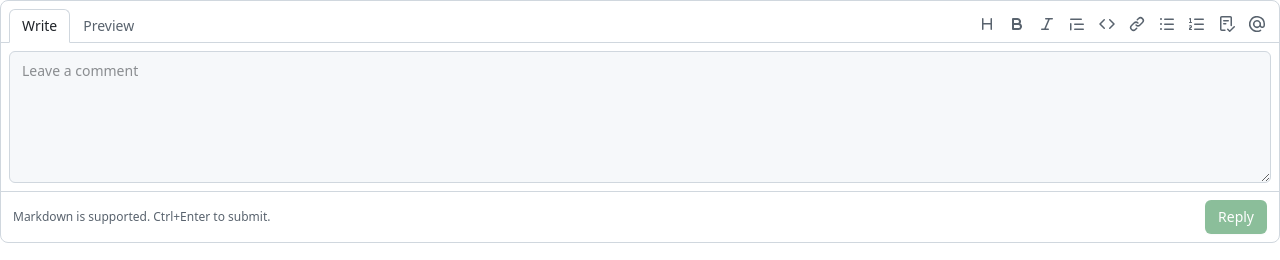
it: CommentEditor › formatting tools › inserts markers with no closing part
In the text box: (640, 117) x1=9 y1=51 x2=1271 y2=183, type "hi "
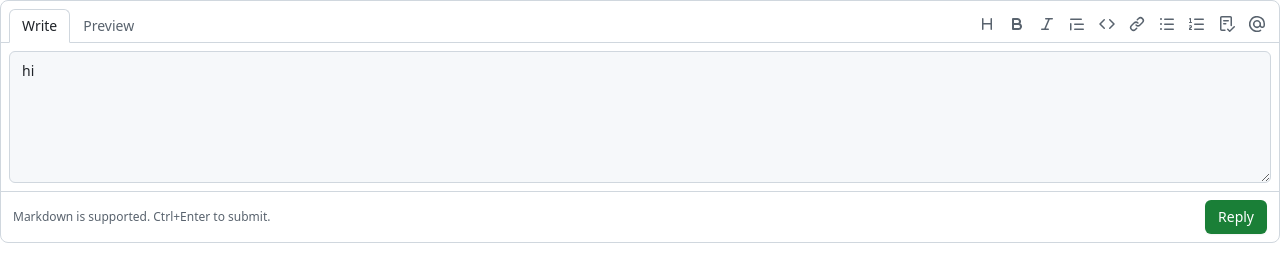
Click the button named "Mention a user": (1257, 24) x1=1243 y1=10 x2=1271 y2=38
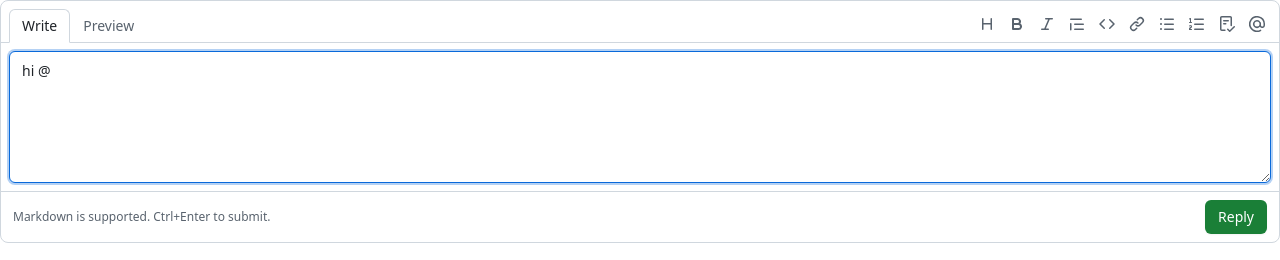
Now the text box holds "hi @", box x1=9 y1=51 x2=1271 y2=183
